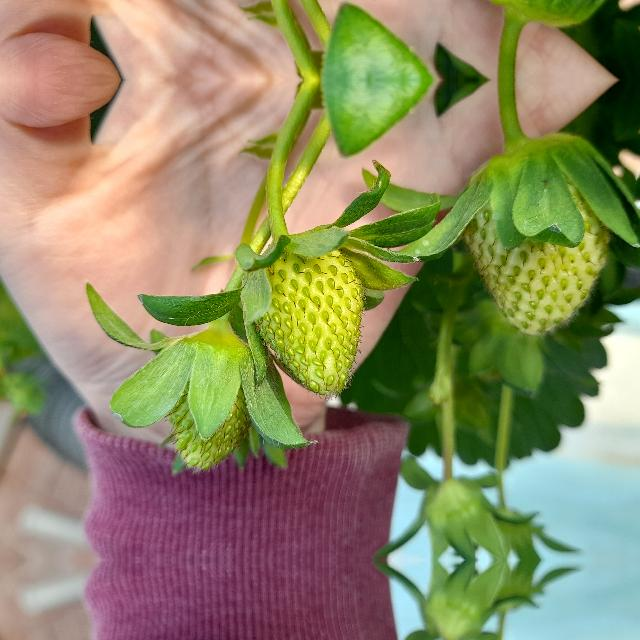Health_25: (463, 174, 613, 332), (252, 244, 364, 396), (160, 356, 250, 472)
